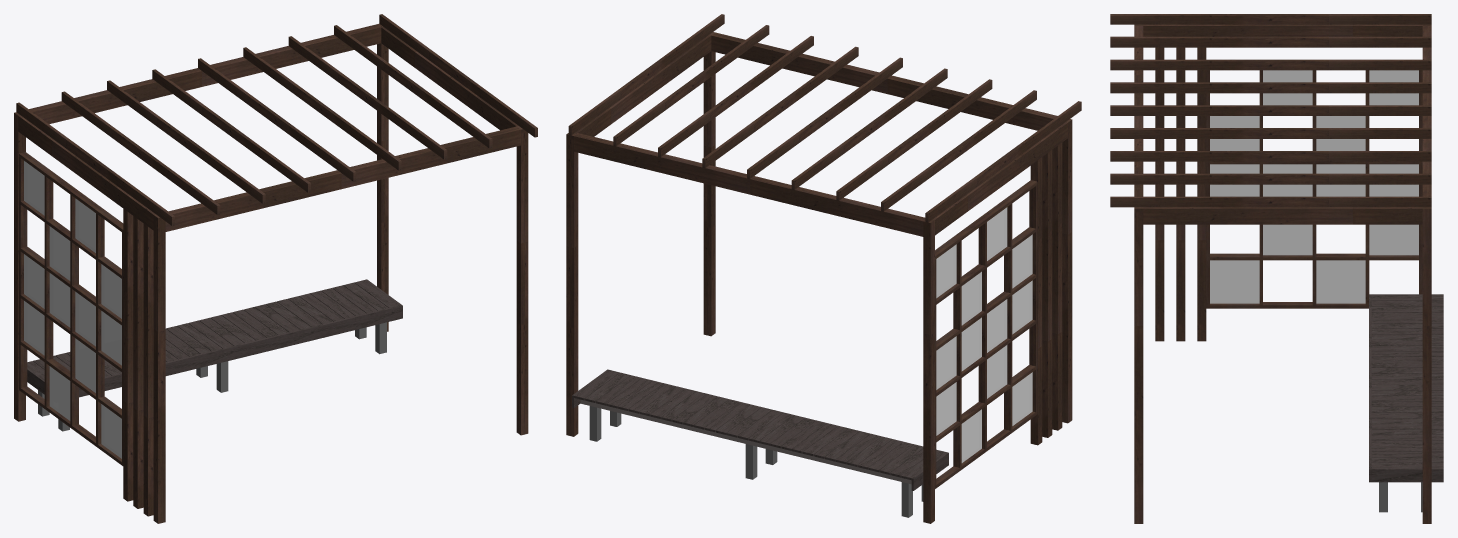
File: pp4-g_darkpine.fbx
The picture shows the model from 3 angles, left to right: view 1: azimuth 30°, elevation 25°; view 2: azimuth 150°, elevation 25°; view 3: azimuth 270°, elevation 25°; orthographic projection. The views are drawn at different scales.
Visible parts, largest first — view 1: pp4-g_darkpine2; view 2: pp4-g_darkpine2; view 3: pp4-g_darkpine2.
Part boxes in pixels (box(x1,y1,x2,y2)): pp4-g_darkpine2: box(14, 14, 537, 523); pp4-g_darkpine2: box(566, 14, 1081, 523); pp4-g_darkpine2: box(1110, 14, 1443, 523).
Bounding box in the file's own units: 367 × 298 × 277.
Materials: 7 (4 with a texture image).
